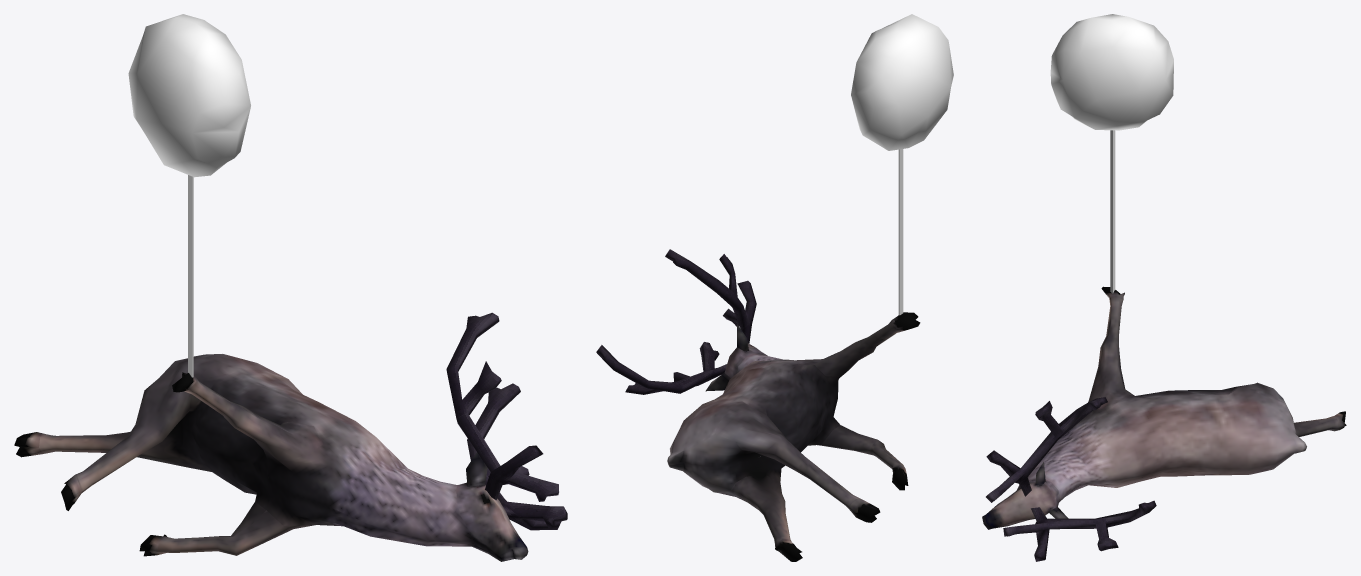
Rendered from getwellsoon.fbx.
3 renders of one model, left to right at view 1: azimuth 30°, elevation 25°; view 2: azimuth 150°, elevation 25°; view 3: azimuth 270°, elevation 25°, orthographic. The views are drawn at different scales.
Parts seen in each view (by area): view 1: reindeer, terrible_joke.001, Cube; view 2: reindeer, terrible_joke.001, Cube; view 3: reindeer, terrible_joke.001, Cube.
Part boxes in pixels (x1,y1,x2,y2): reindeer: (14,312,567,561); terrible_joke.001: (128,14,250,177); Cube: (188,175,193,377); reindeer: (596,249,920,561); terrible_joke.001: (851,14,953,150); Cube: (898,149,903,315); reindeer: (982,286,1346,561); terrible_joke.001: (1050,14,1173,130); Cube: (1110,130,1115,293).
Size of the model in its own units: 194 by 254 by 198.
